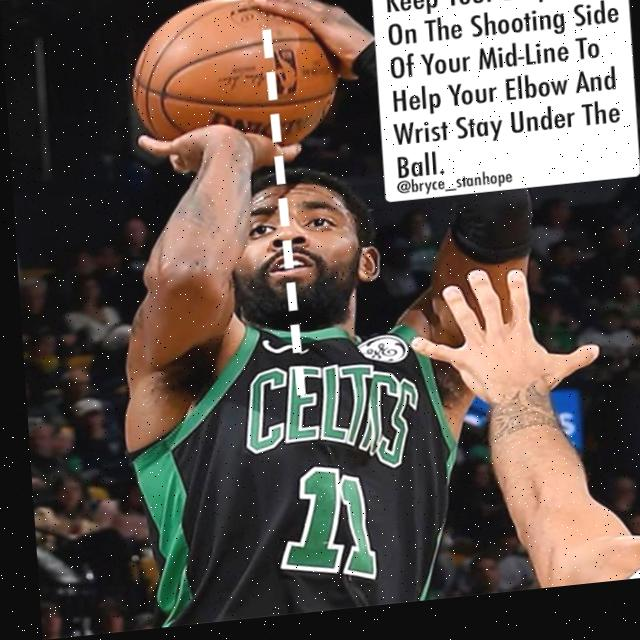basketball: (129, 0, 343, 164)
